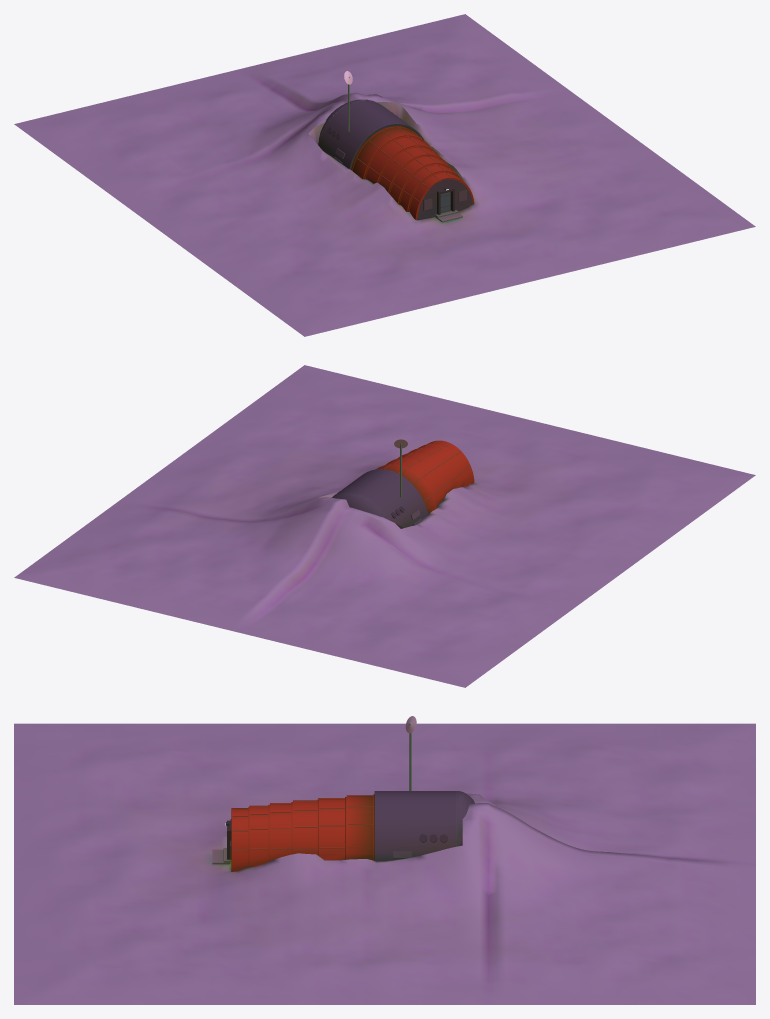
File: mann_shelter.glb
3 renders of one model, top to bottom at view 1: azimuth 30°, elevation 25°; view 2: azimuth 150°, elevation 25°; view 3: azimuth 270°, elevation 25°, orthographic. The views are drawn at different scales.
Parts seen in each view (by area): view 1: shelter_drift__m, shelter_shell__m; view 2: shelter_drift__m, shelter_shell__m; view 3: shelter_drift__m, shelter_shell__m.
Boxes of the visible parts, x1,y1,x2,y2 form: shelter_drift__m: [14, 14, 755, 336]; shelter_shell__m: [318, 71, 474, 222]; shelter_drift__m: [14, 365, 755, 687]; shelter_shell__m: [331, 439, 474, 527]; shelter_drift__m: [14, 723, 755, 1004]; shelter_shell__m: [212, 716, 474, 871].
Bounding box in the file's own units: 52 × 11.42 × 58.
